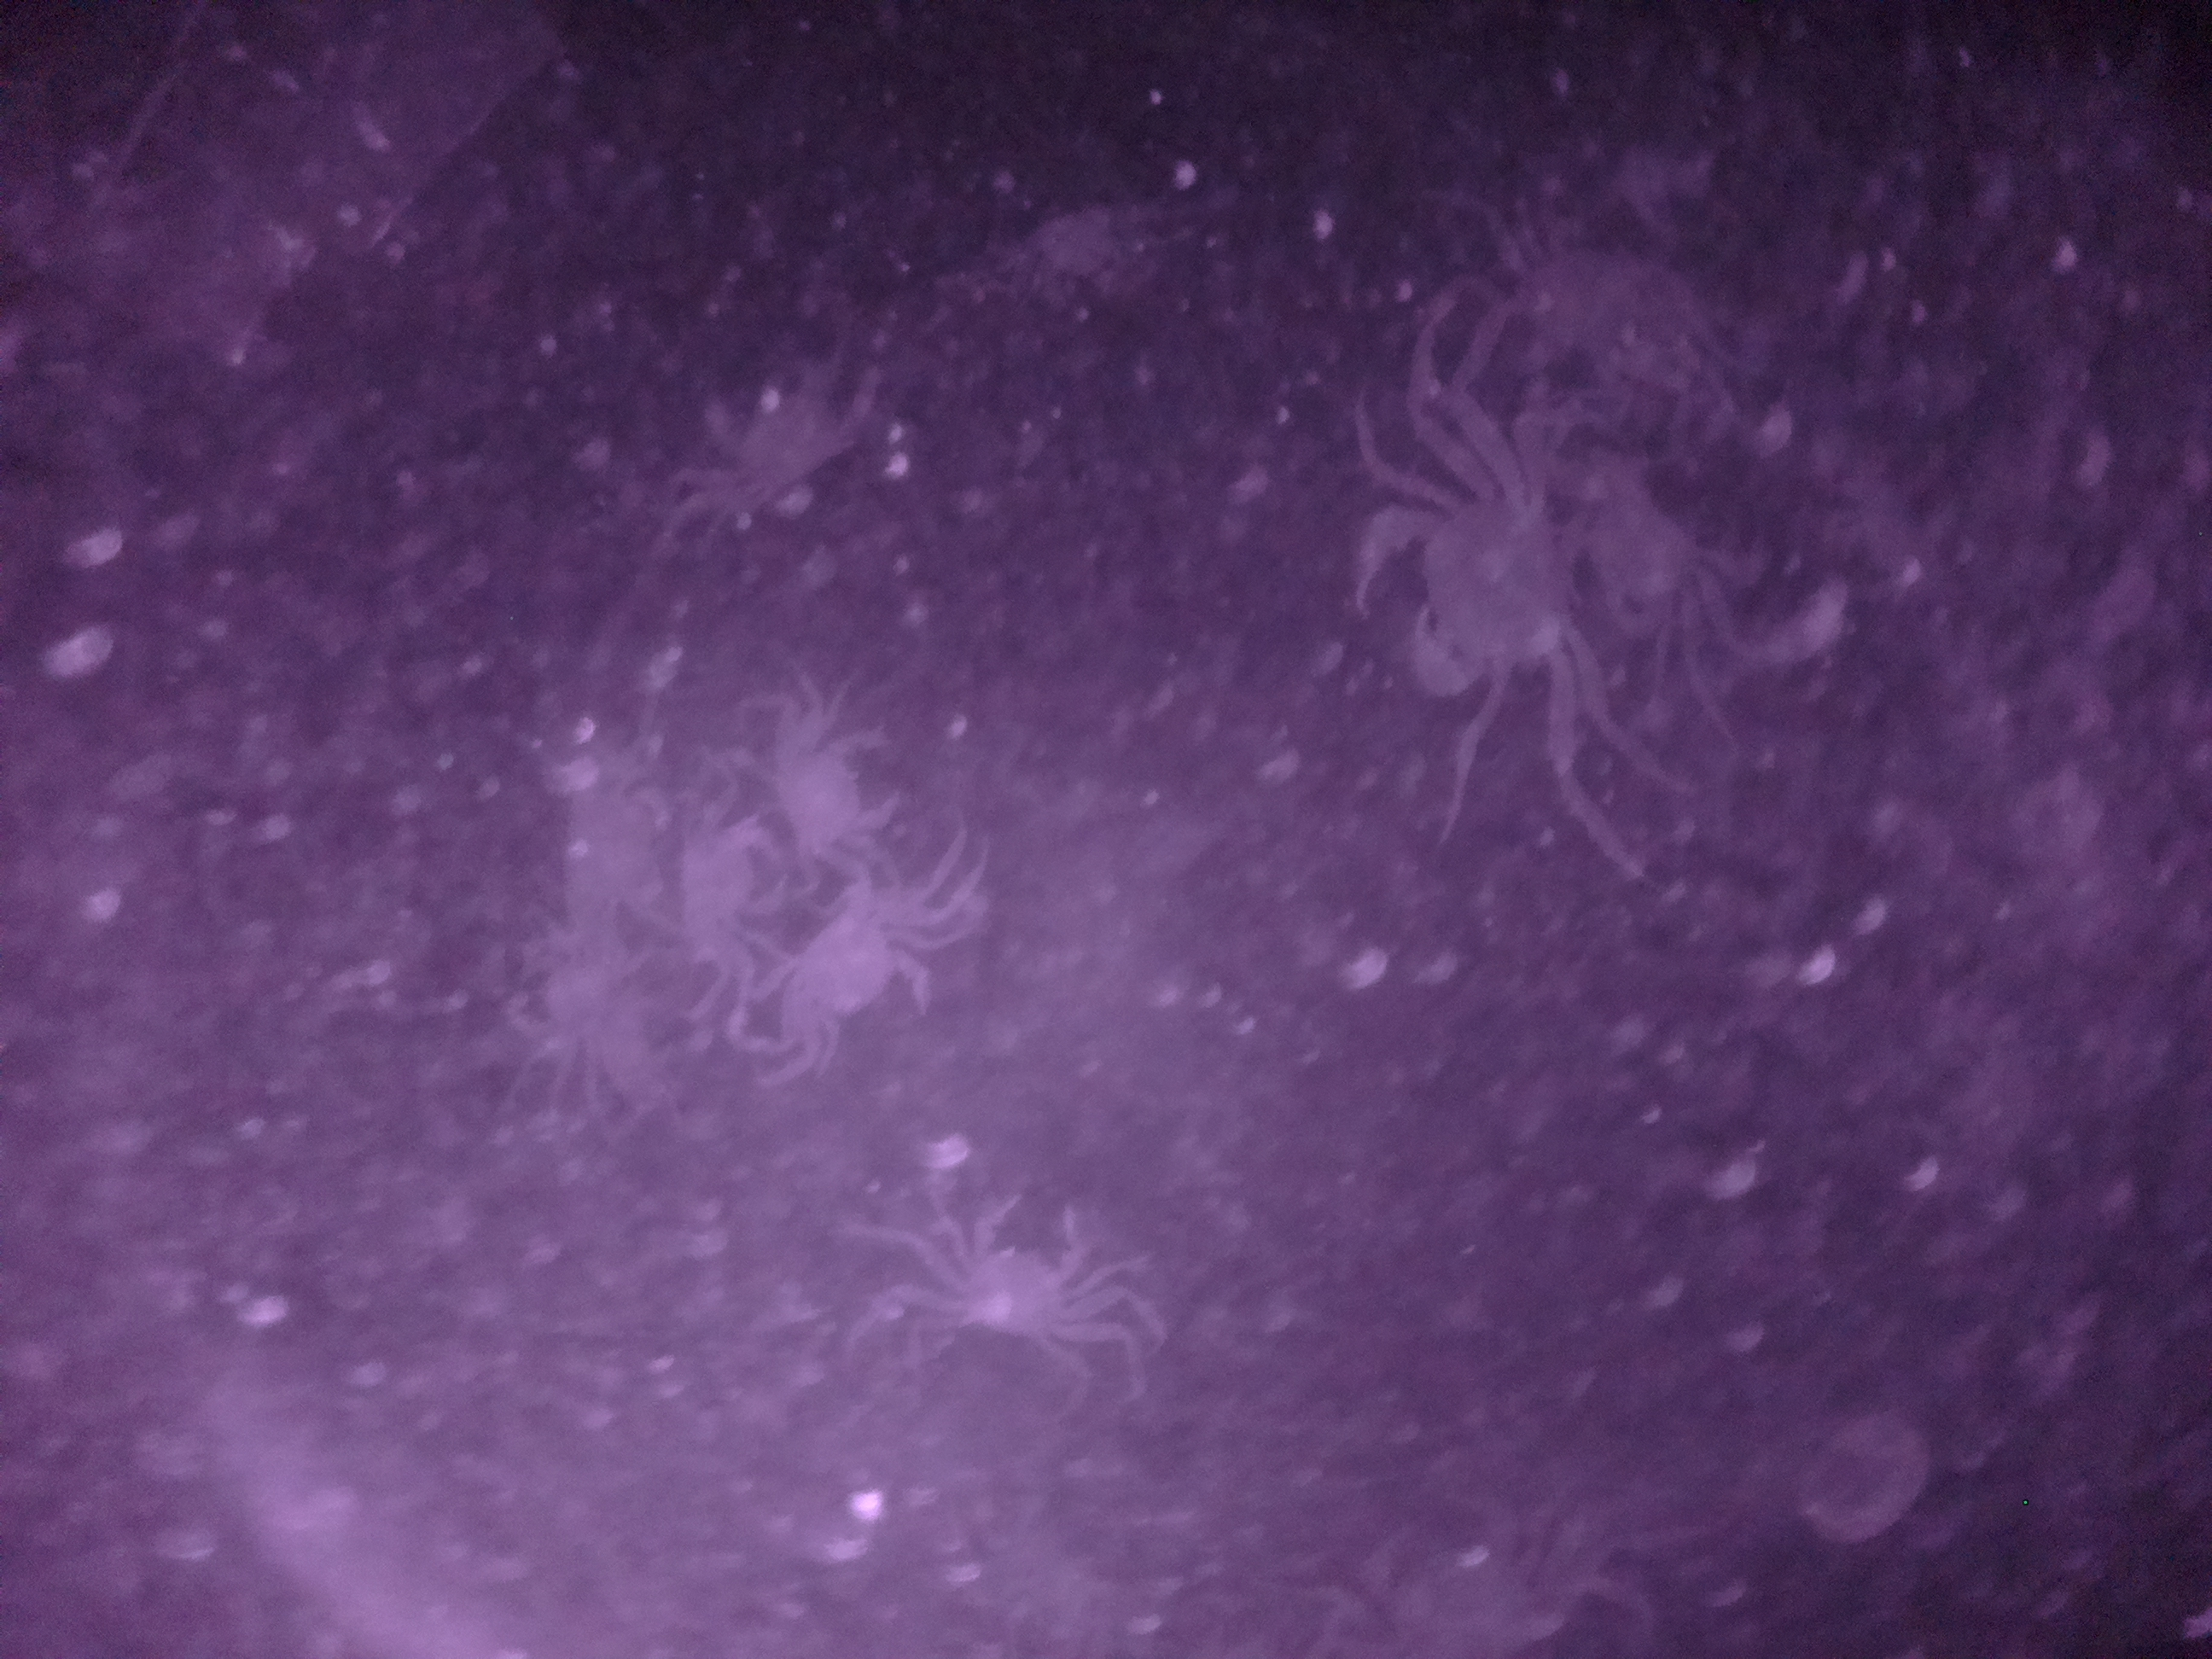Crab: (1332, 441, 1623, 739), (920, 1157, 1143, 1366), (758, 871, 948, 1086), (758, 708, 921, 875)
